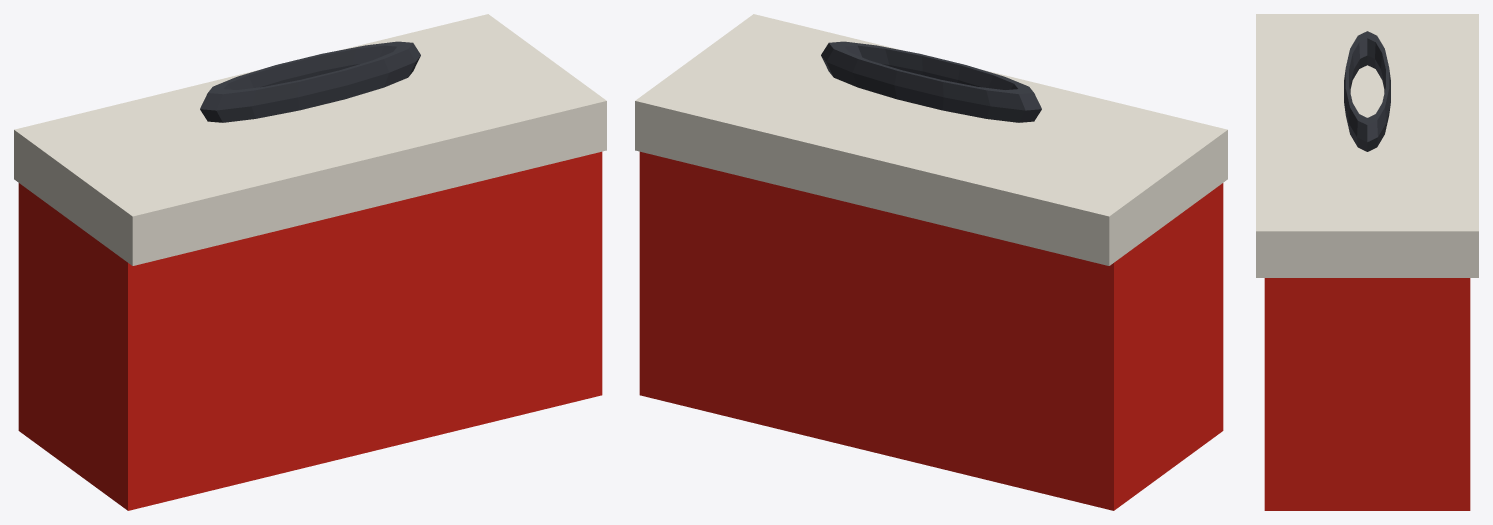
The model's file is lunchbox.fbx.
3 renders of one model, left to right at view 1: azimuth 30°, elevation 25°; view 2: azimuth 150°, elevation 25°; view 3: azimuth 270°, elevation 25°, orthographic. The views are drawn at different scales.
Parts seen in each view (by area): view 1: lunchbox; view 2: lunchbox; view 3: lunchbox.
Boxes of the visible parts, x1,y1,x2,y2 form: lunchbox: (14,14,606,510); lunchbox: (635,14,1227,510); lunchbox: (1256,14,1478,510).
Bounding box in the file's own units: 0.3 × 0.2087 × 0.13.
